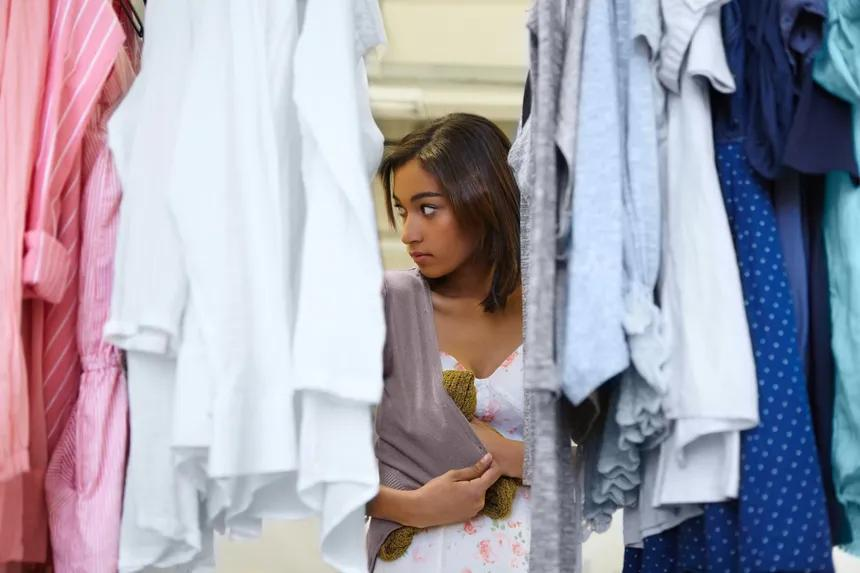shoplifting: (316, 117, 596, 572)
